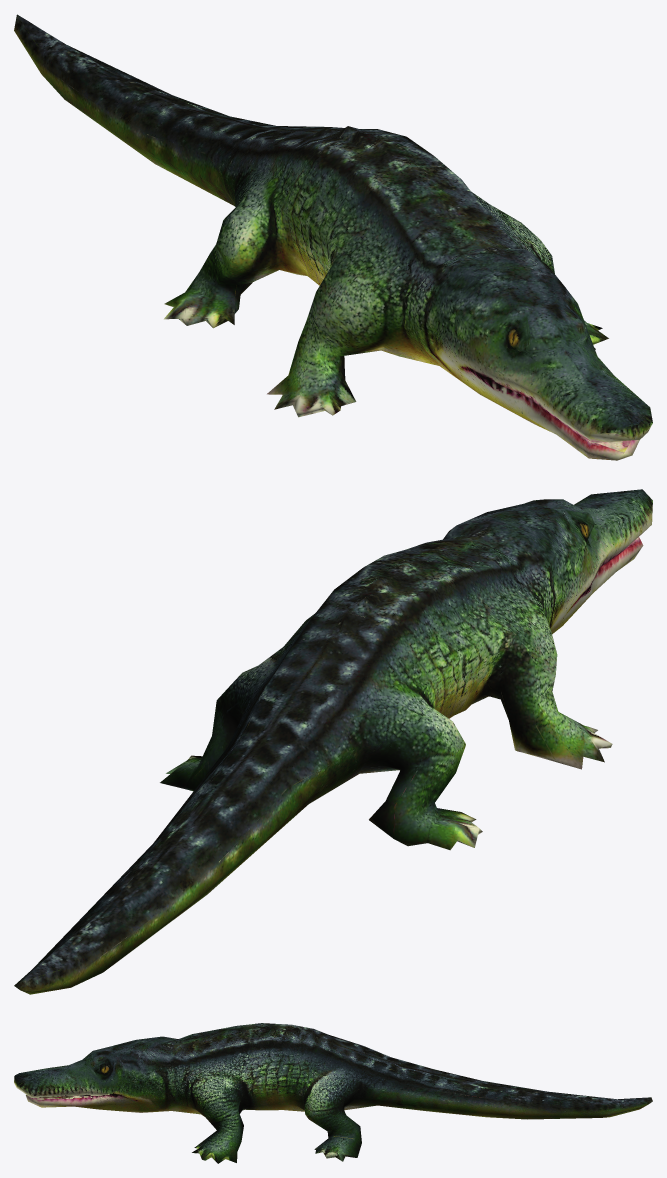
The model's file is coco.gltf.
The picture shows the model from 3 angles, top to bottom: view 1: azimuth 30°, elevation 25°; view 2: azimuth 150°, elevation 25°; view 3: azimuth 270°, elevation 25°; orthographic projection. The views are drawn at different scales.
Parts seen in each view (by area): view 1: Alligator_Low_Poly; view 2: Alligator_Low_Poly; view 3: Alligator_Low_Poly.
Boxes of the visible parts, x1,y1,x2,y2 form: Alligator_Low_Poly: (14, 14, 652, 460); Alligator_Low_Poly: (14, 489, 652, 994); Alligator_Low_Poly: (14, 1023, 652, 1163).
Size of the model in its own units: 1.51 by 0.8112 by 4.91.
Materials: 1 (1 with a texture image).
